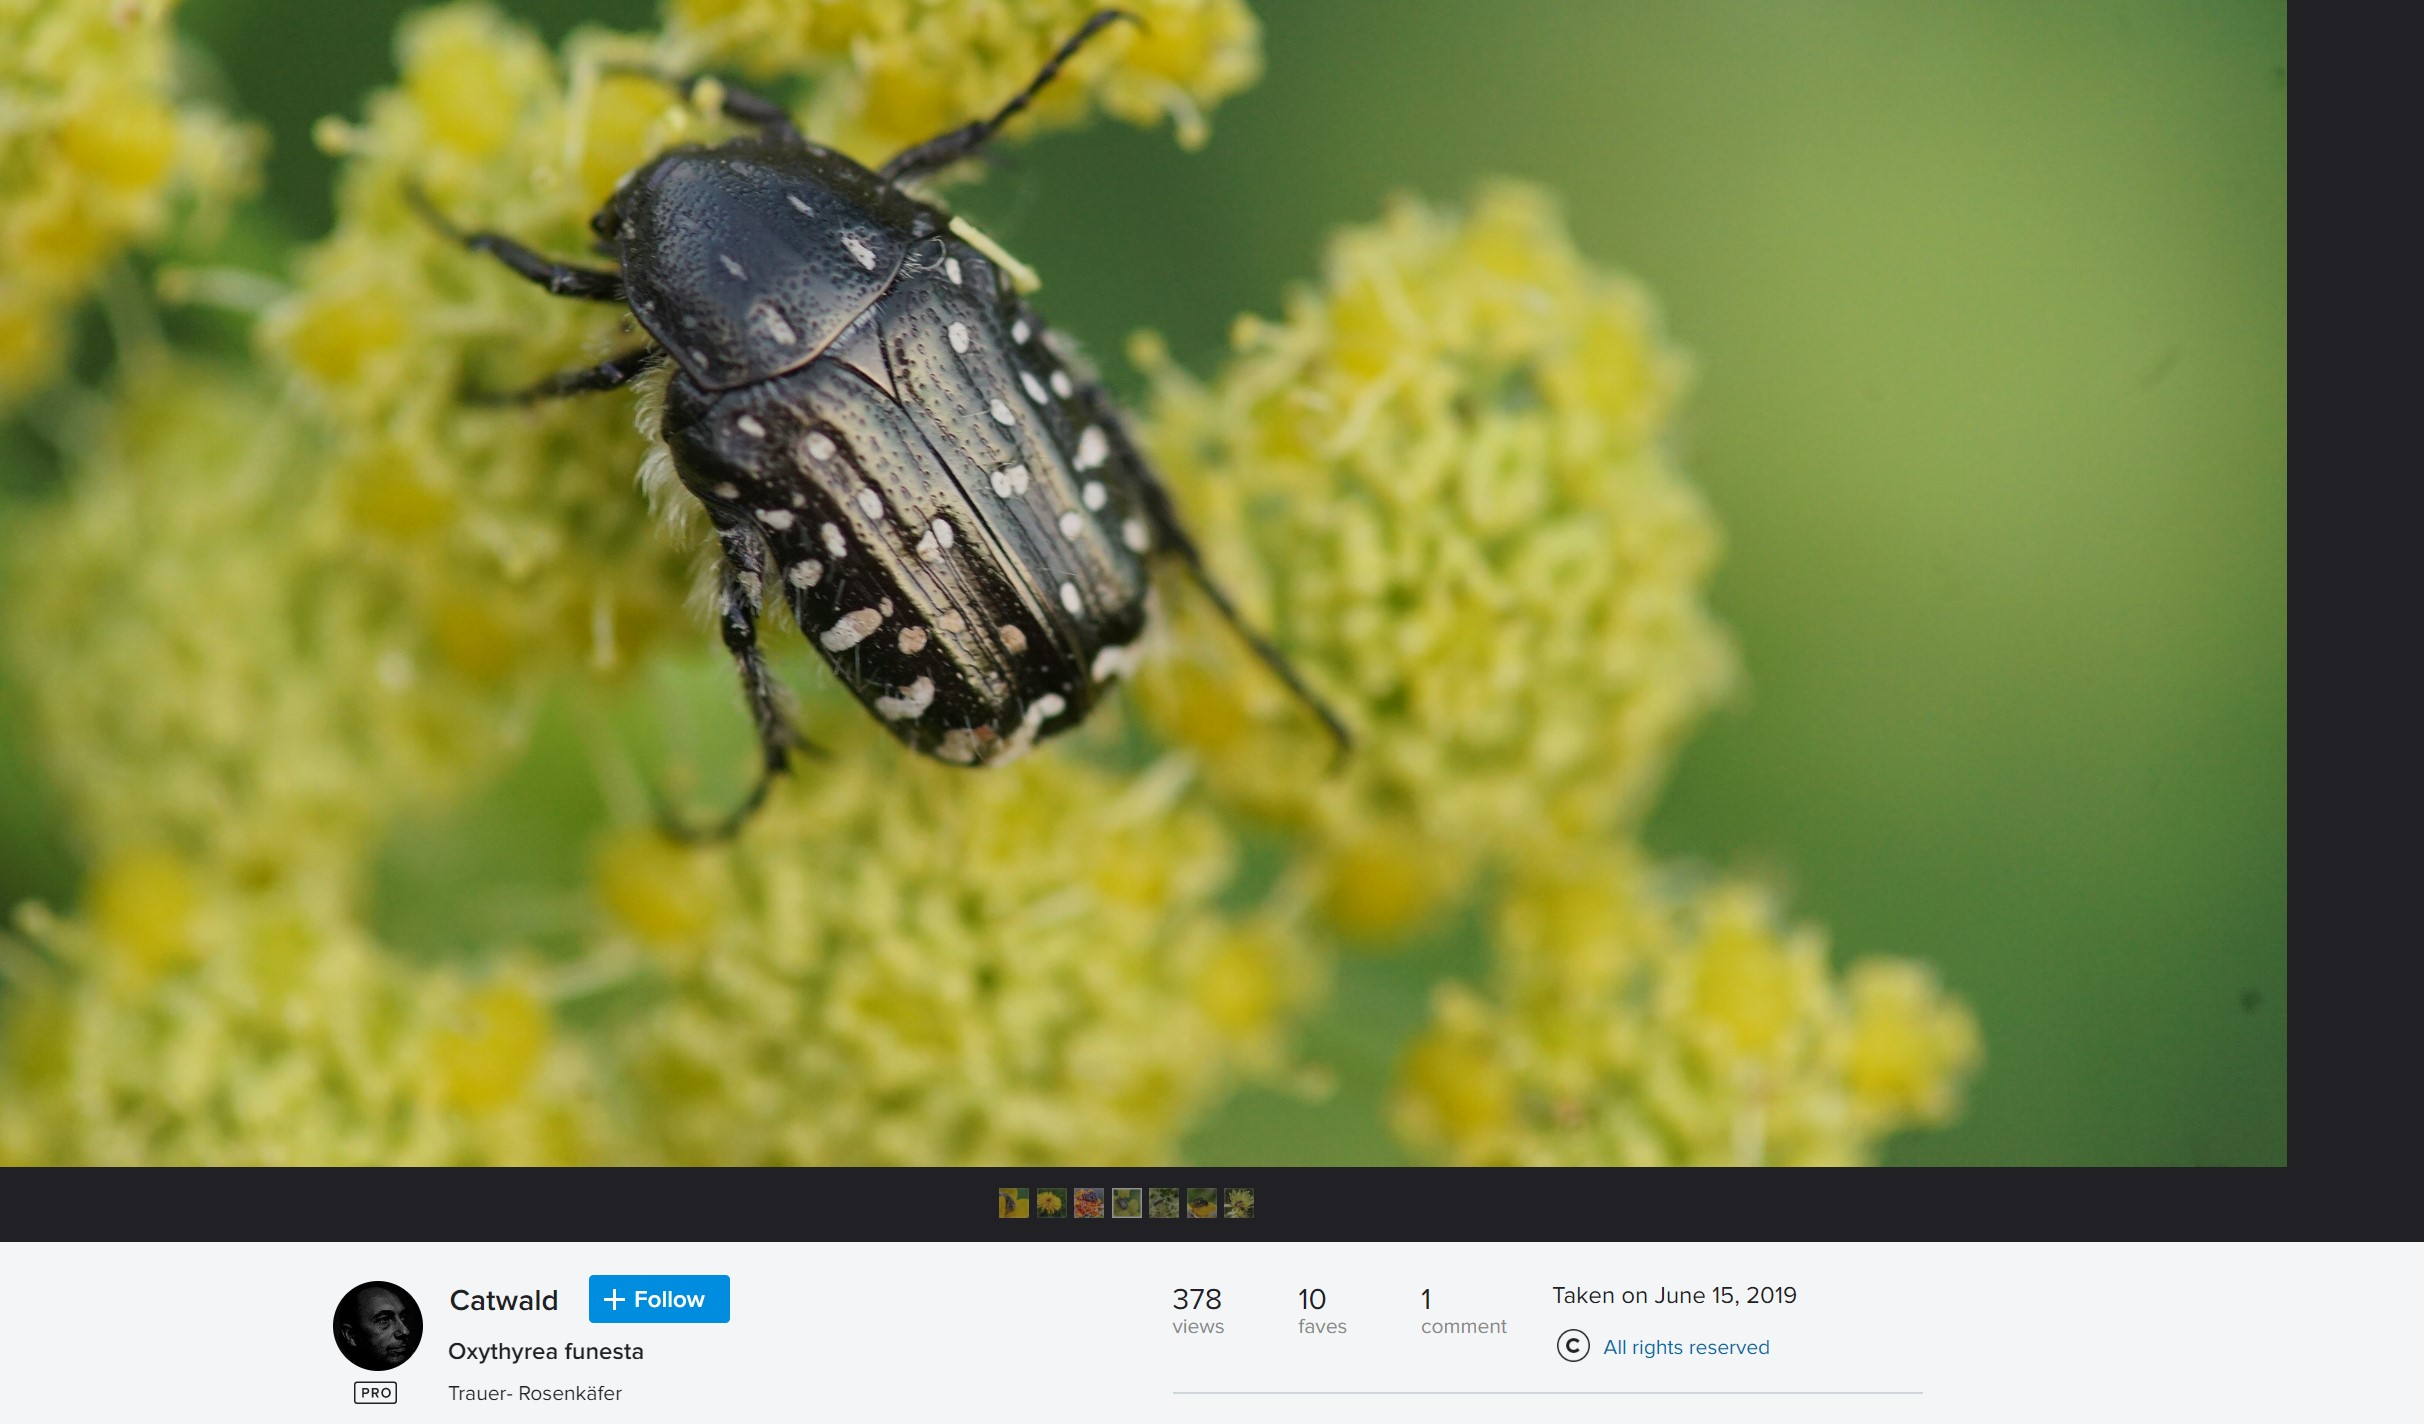Oxythyrea_funesta: (424, 7, 1236, 883)
